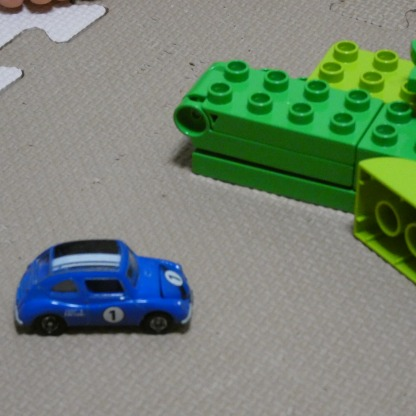car: (9, 234, 198, 336)
